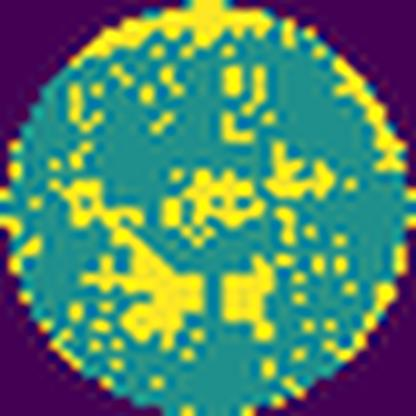Loc: (50, 175, 208, 351), (165, 167, 270, 244), (223, 252, 276, 341), (266, 141, 340, 200), (220, 63, 267, 141)
